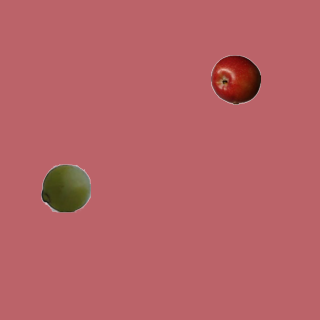Apple Braeburn: (210, 54, 260, 104)
Grape White 4: (40, 162, 90, 212)
